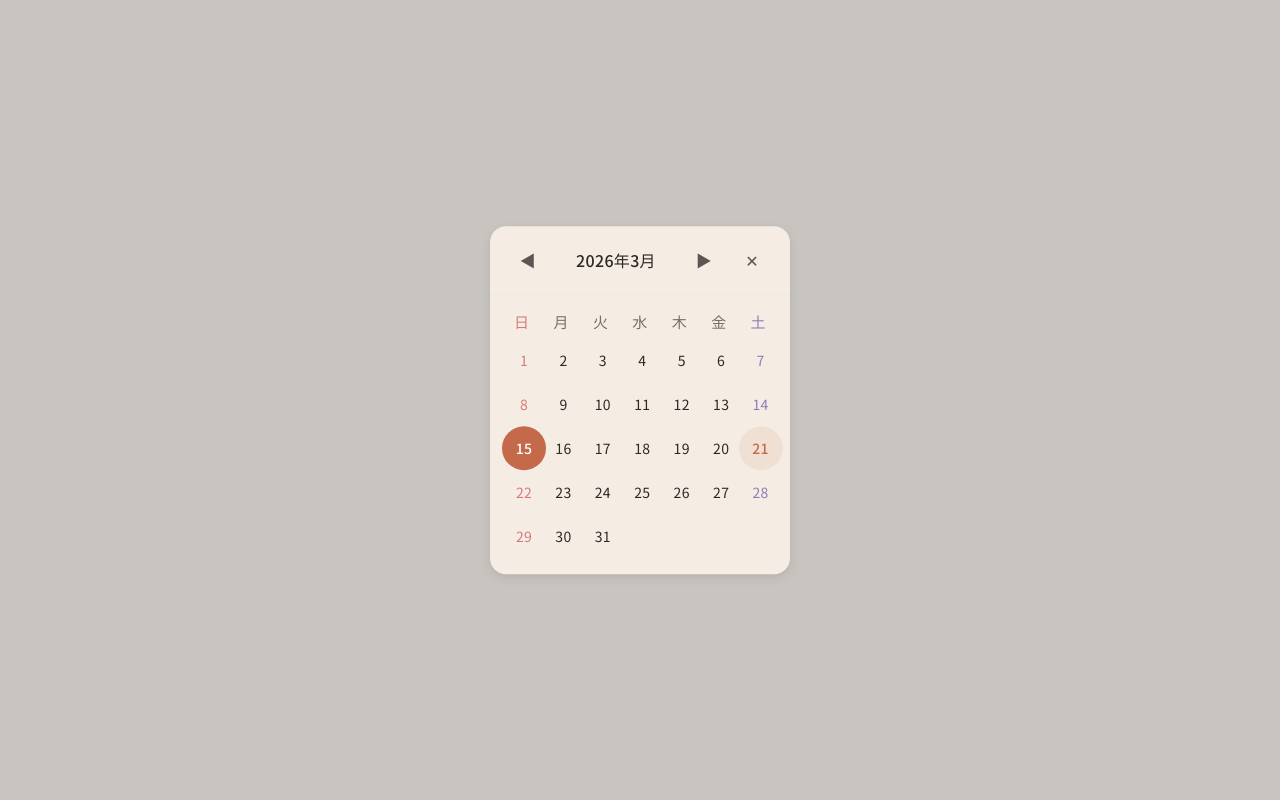
Test: DatePicker › navigates to next month
Step 1. Click the button "▶" → {"x": 704, "y": 260}, box x1=682 y1=238 x2=726 y2=282
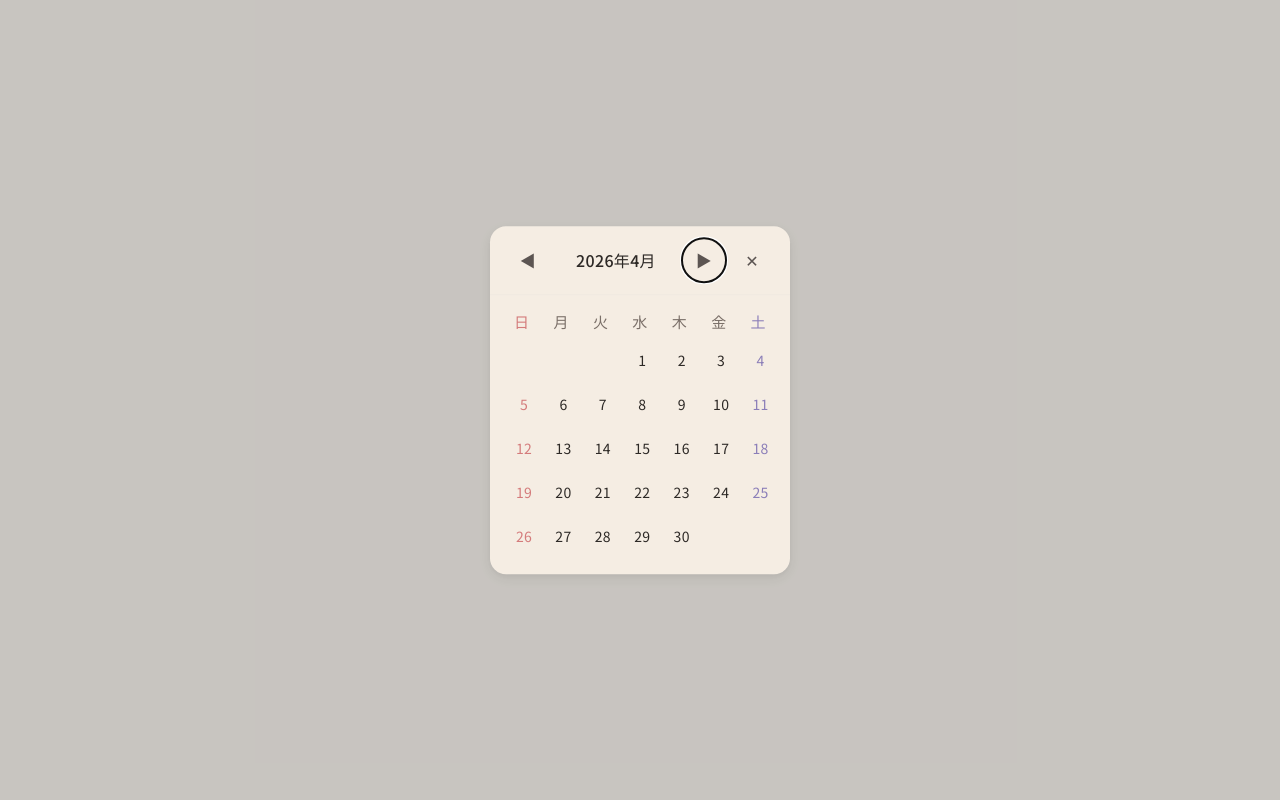
Result: the text "2026年4月" is shown at x1=576 y1=248 x2=656 y2=272
